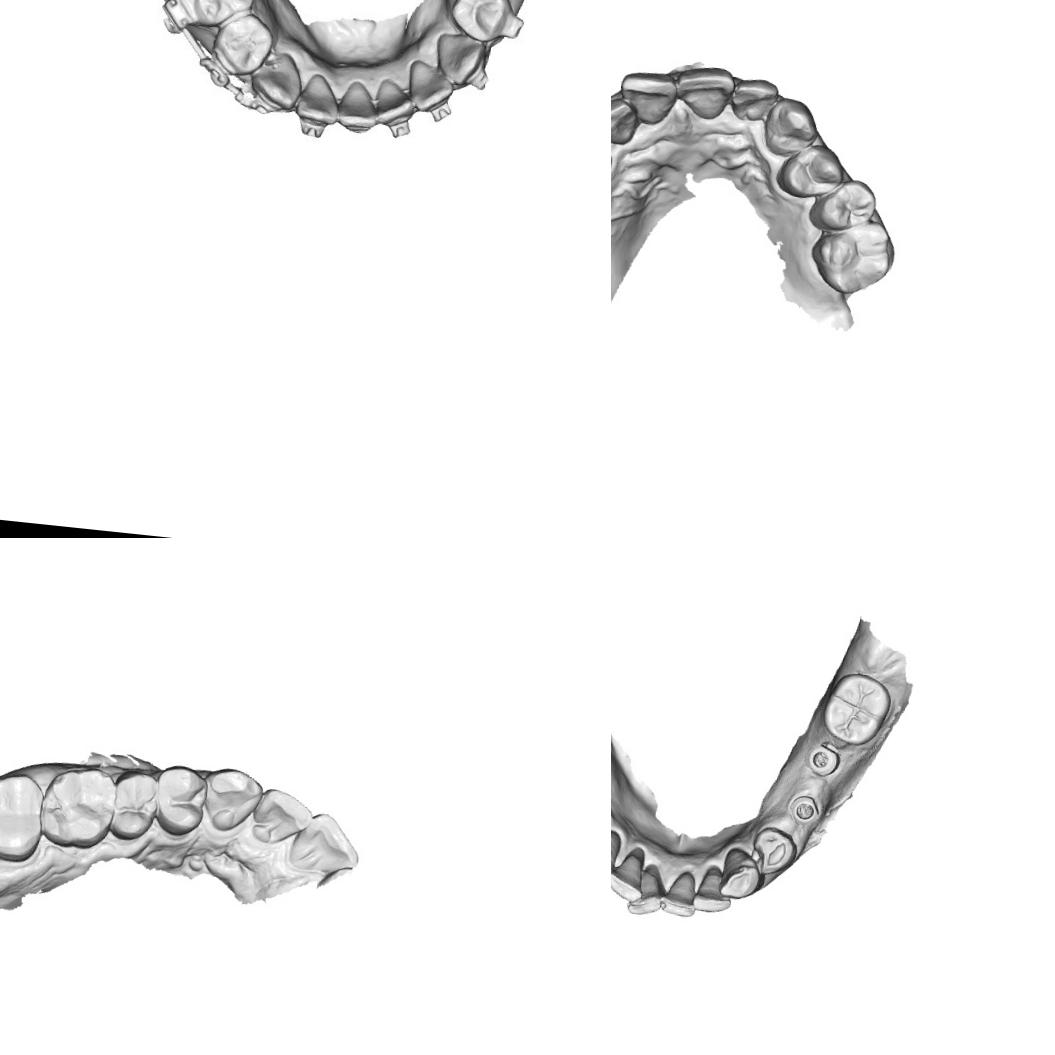canine: (198, 764, 264, 836), (759, 94, 823, 160), (248, 54, 304, 106), (716, 844, 764, 903), (435, 30, 488, 82), (611, 824, 623, 884)
implant: (802, 742, 844, 779), (784, 792, 824, 829)
incisor: (287, 809, 364, 878), (247, 785, 316, 850), (672, 62, 738, 124), (614, 67, 680, 128), (289, 70, 343, 122), (655, 866, 704, 920), (729, 75, 780, 125), (405, 60, 454, 111), (335, 82, 383, 134), (626, 864, 670, 920), (689, 864, 734, 916), (611, 849, 647, 904), (376, 78, 416, 126), (611, 94, 641, 147)
molar: (36, 759, 122, 856), (807, 214, 894, 300), (818, 667, 894, 750), (0, 766, 50, 865), (172, 0, 257, 25)
premolar: (150, 760, 212, 840), (102, 765, 163, 844), (774, 140, 848, 204), (805, 175, 880, 238), (216, 12, 274, 73), (750, 823, 802, 880), (450, 0, 515, 38)
